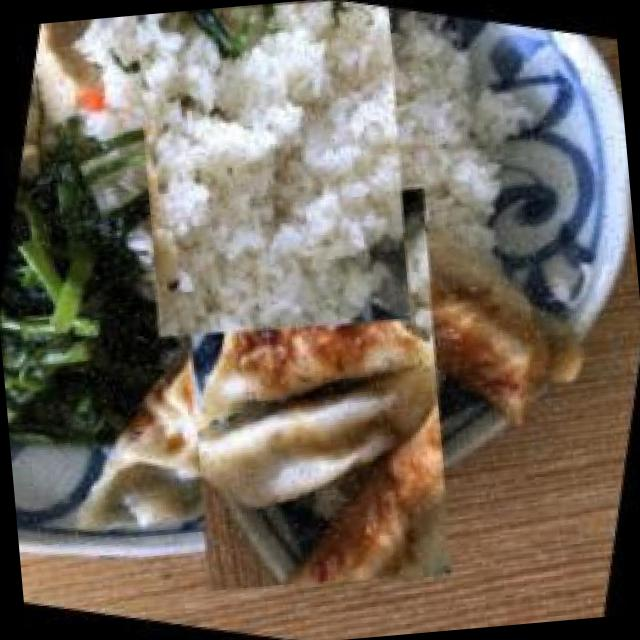fried_dumplings: (72, 144, 558, 629)
rice: (35, 0, 507, 377)
water_spinach: (0, 146, 188, 453)
